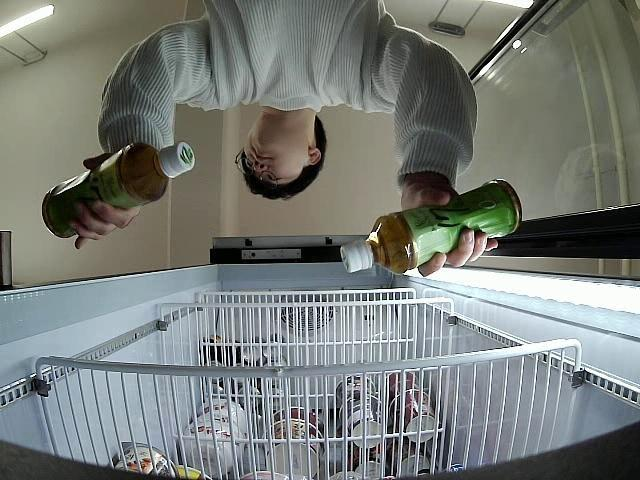19_17cha: (340, 178, 522, 274), (42, 140, 195, 239)
